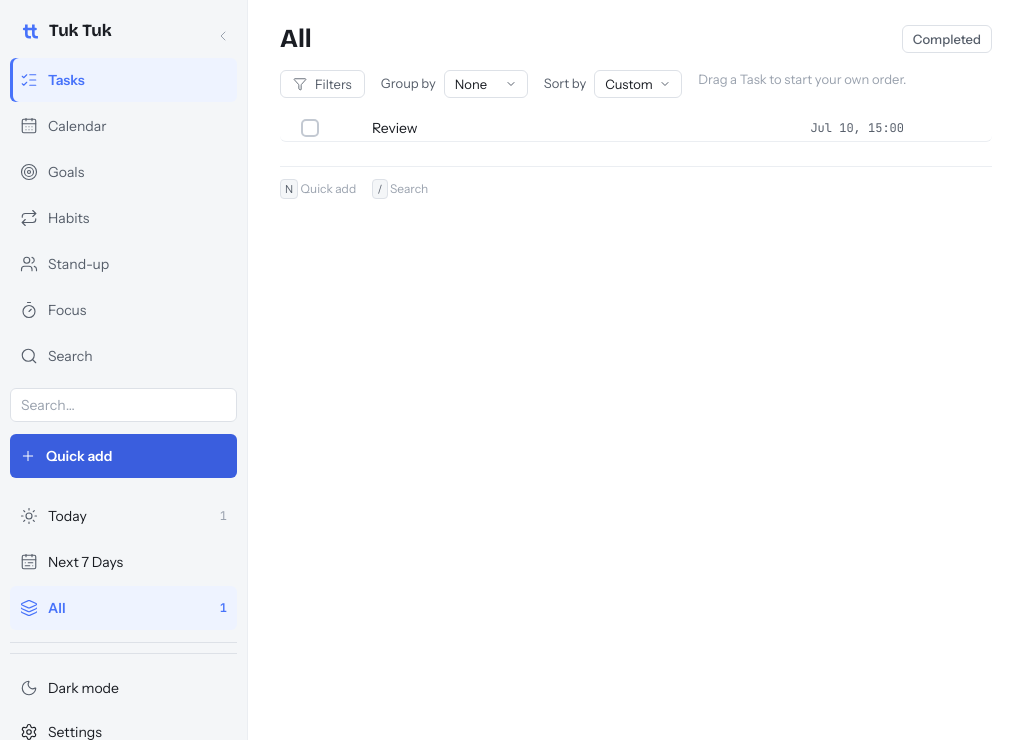
it: Recurrence in the detail panel › builds a rule that ends on a date
This screenshot has width=1024, height=740.
Click the button "Review" at (490, 128), box [372,119,608,137]
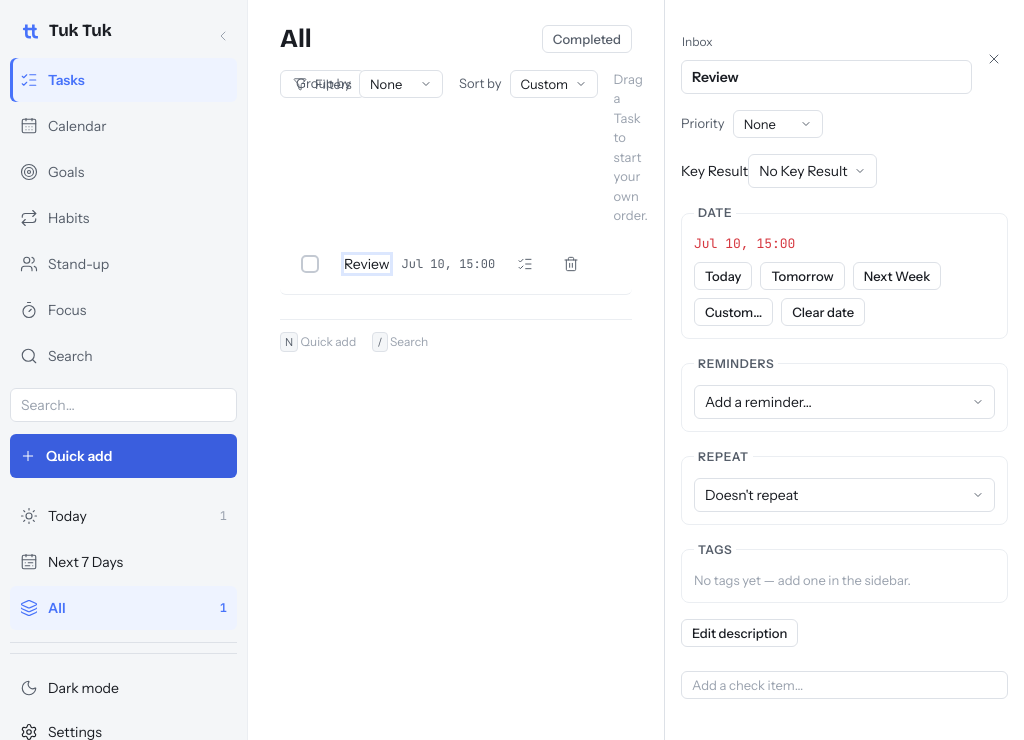
Select "Custom…" in the dropdown named "Repeat" at (844, 494), box [694,478,995,512]
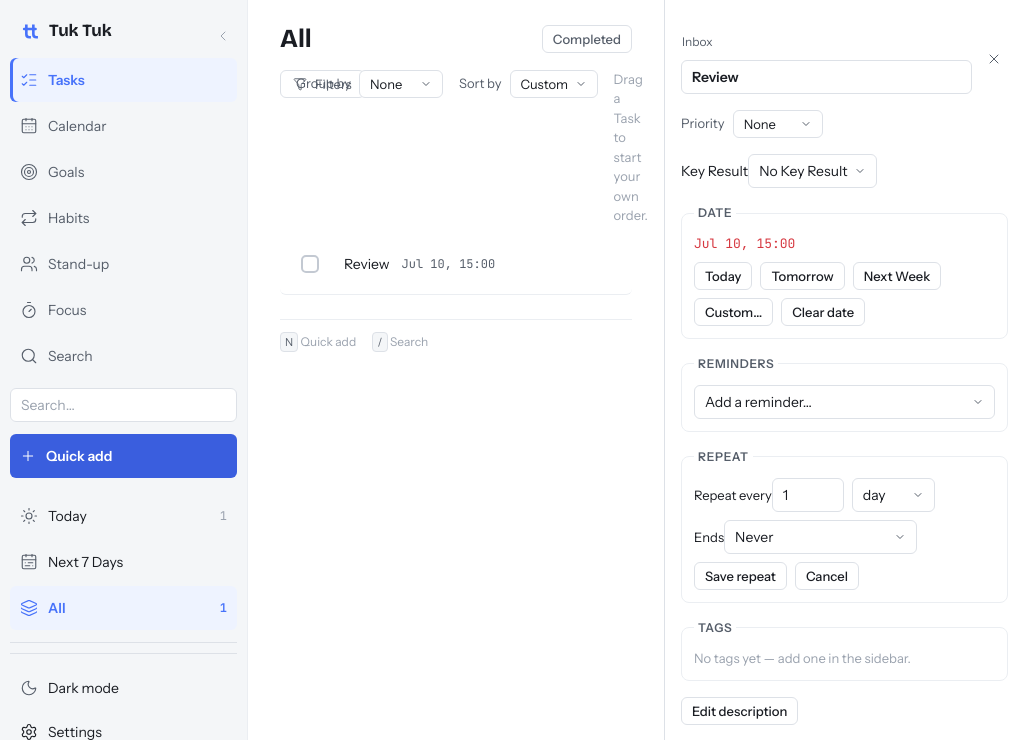
Select "On a date" in the dropdown labelled "Ends" at (821, 536), box [724,520,917,554]
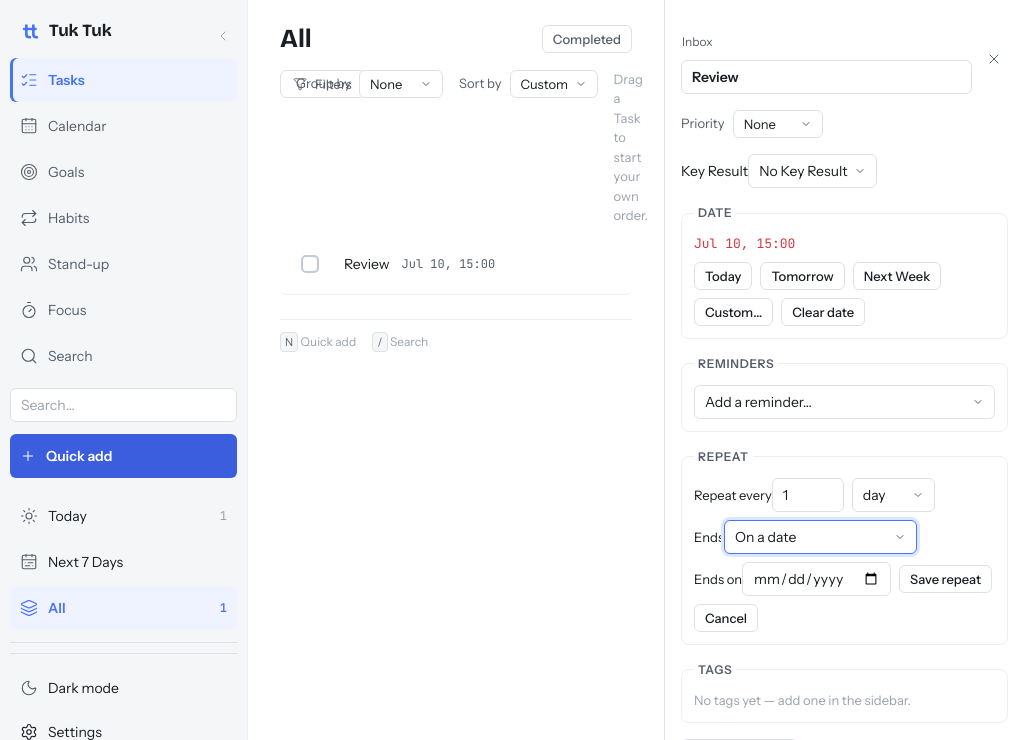
Type "2026-12-31" into the date field labelled "Ends on" at (817, 578), box [742,562,891,596]
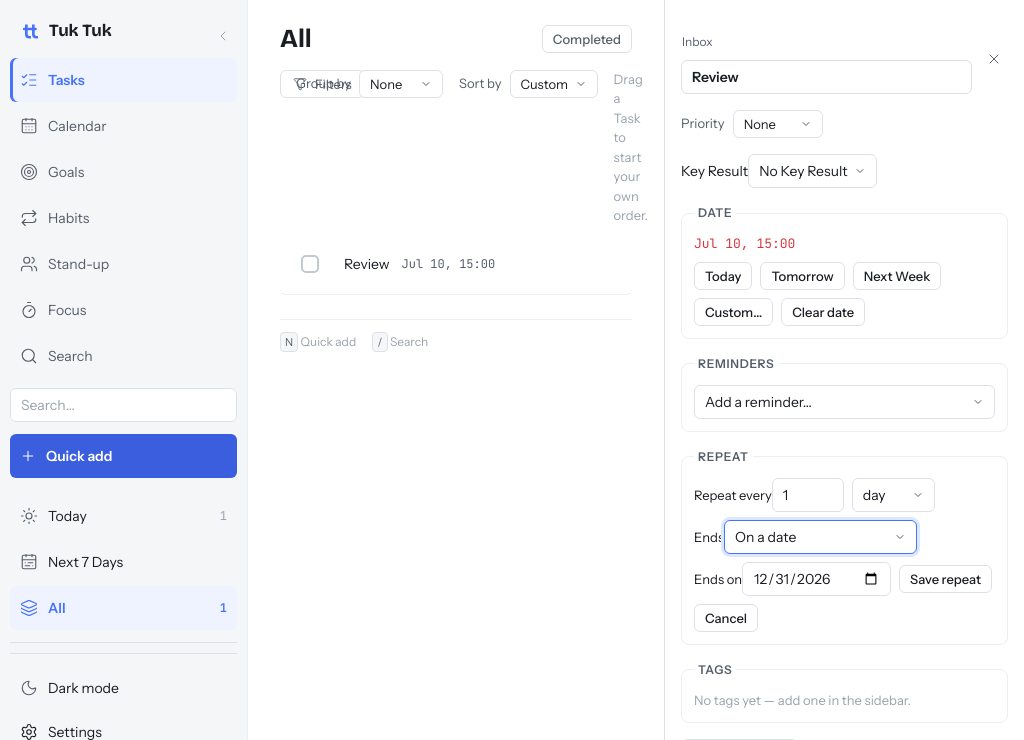
Click the button "Save repeat" at (946, 578), box [899,564,992,592]
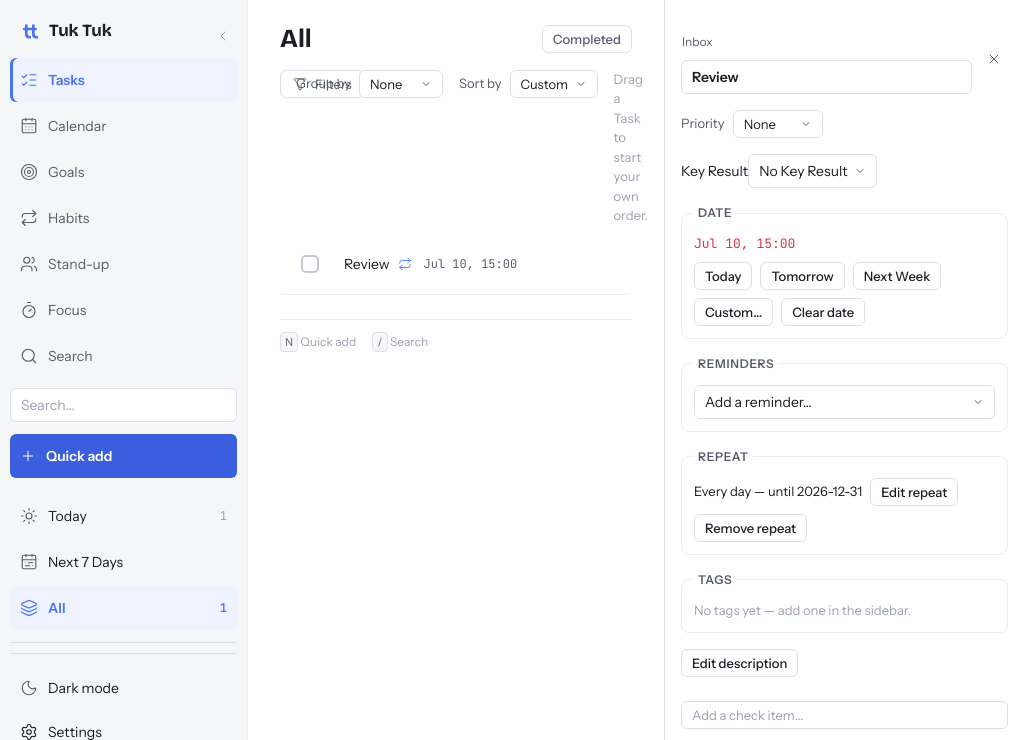
Expected: the text "Every day — until 2026-12-31" is shown, [694,482,862,501]
